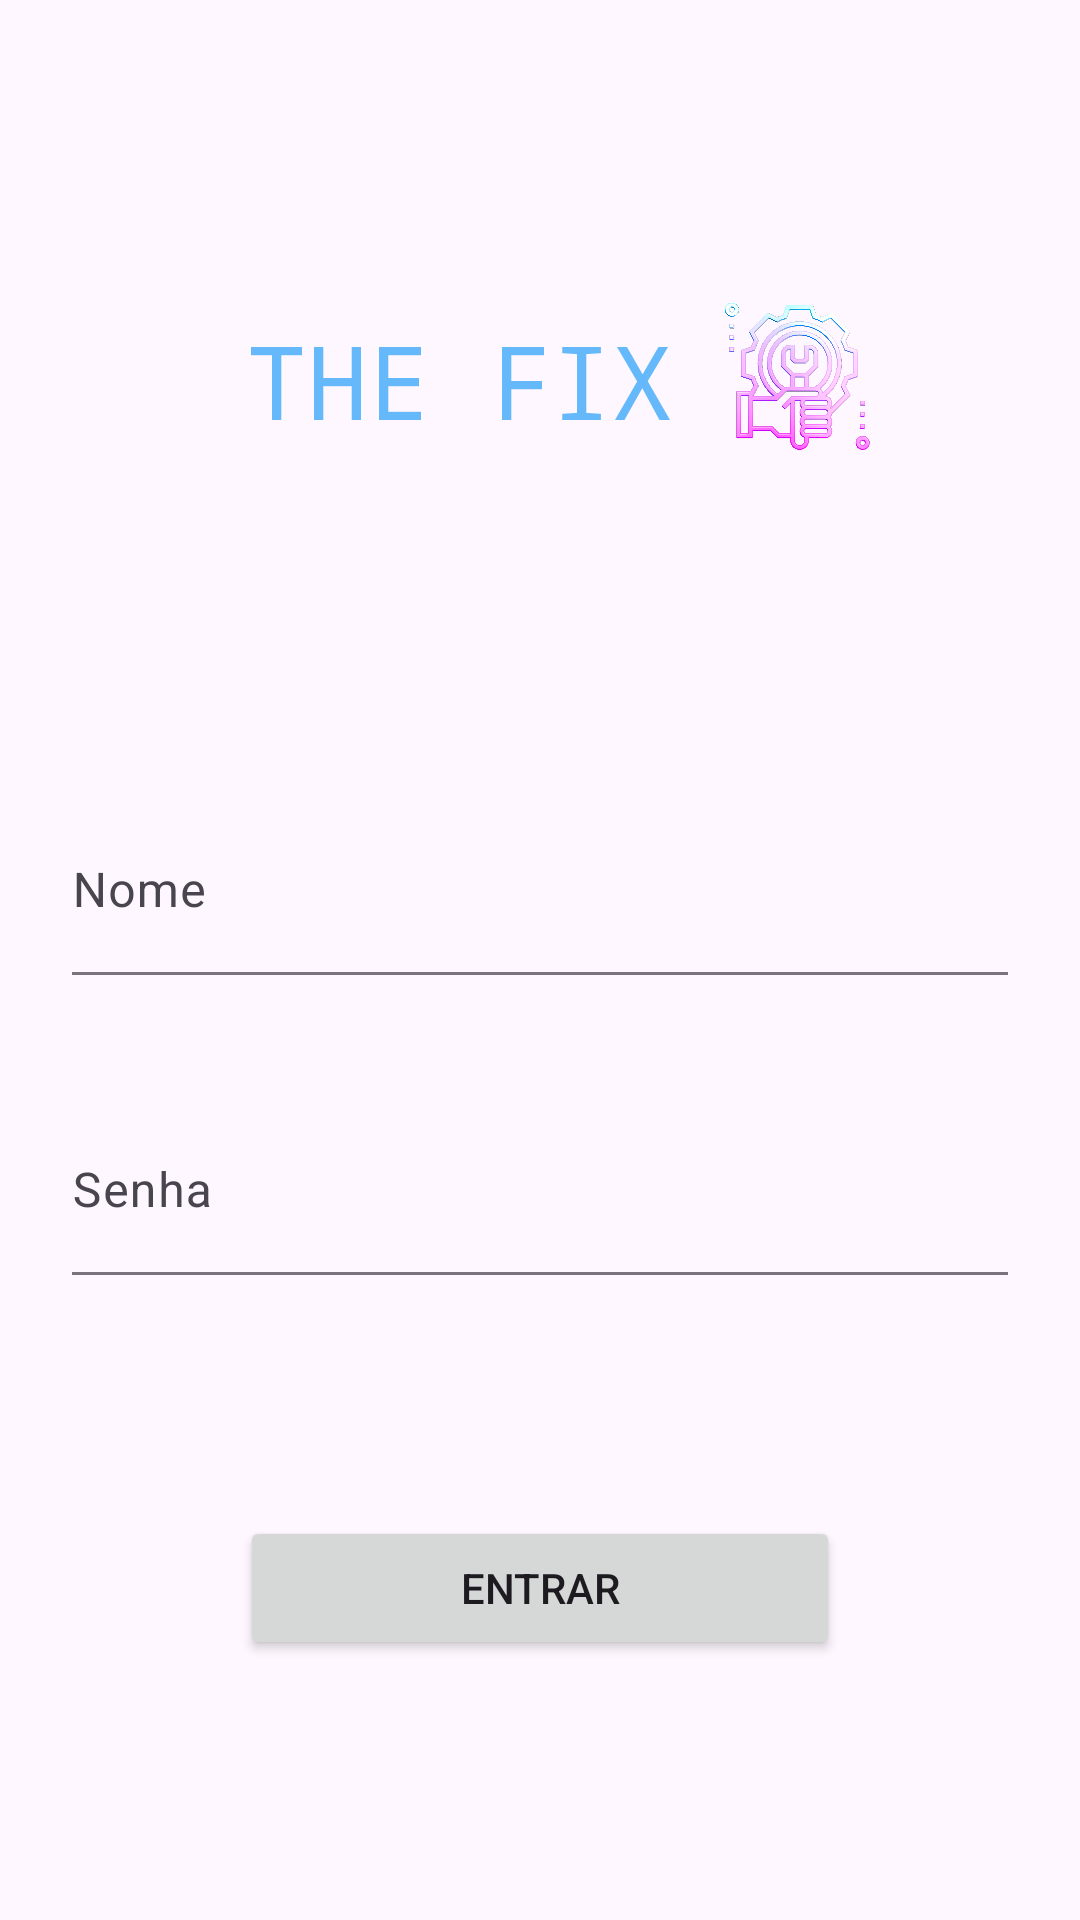

Screen size 1080×1920. Icon name, then its center in pixels as (x=x, y=y):
manutencao novo: (x=797, y=376)
